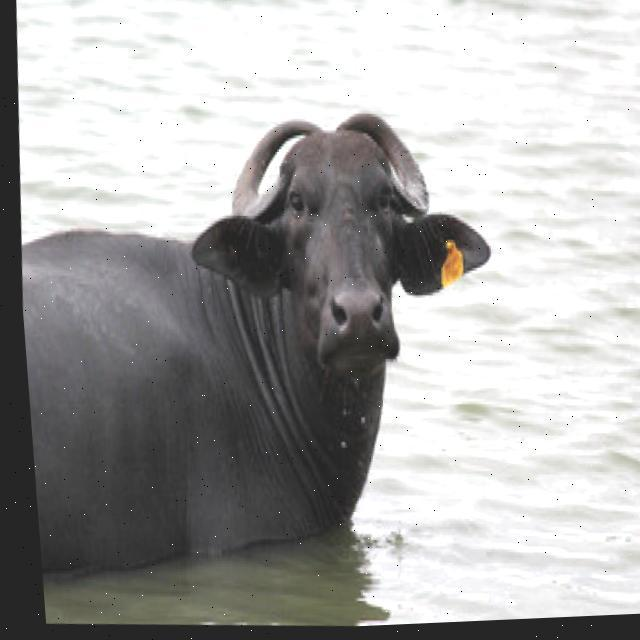Buffalo: (8, 87, 527, 619)
